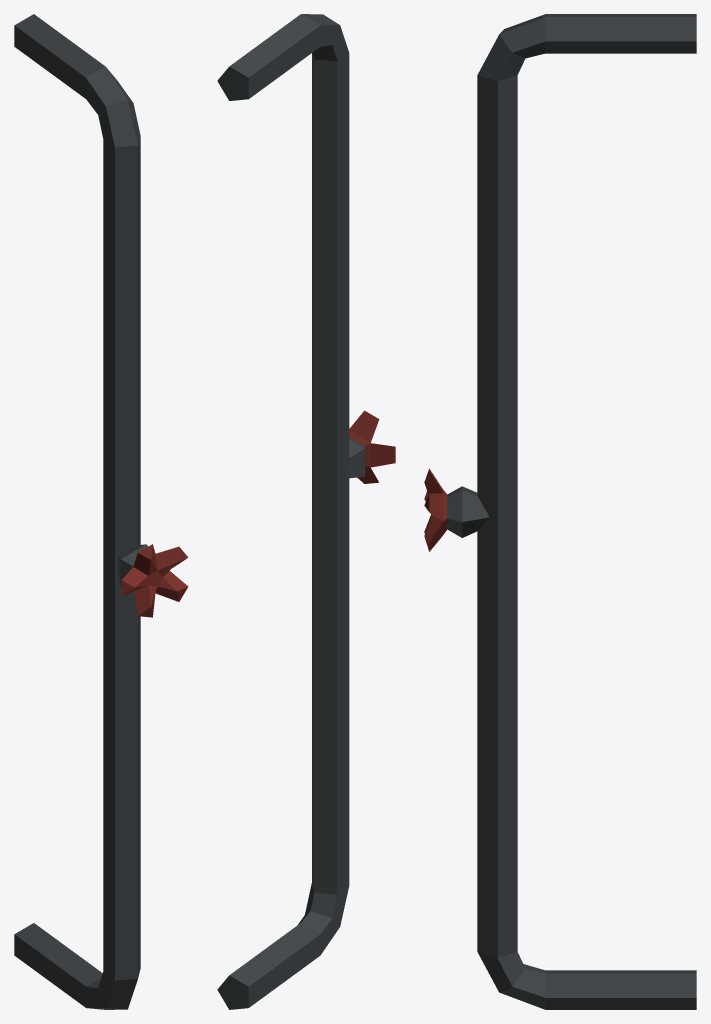
The model's file is SM_Prop_Wall_Pipe_01.obj.
The picture shows the model from 3 angles, left to right: view 1: azimuth 30°, elevation 25°; view 2: azimuth 150°, elevation 25°; view 3: azimuth 270°, elevation 25°; orthographic projection. The views are drawn at different scales.
Visible parts, largest first — view 1: SM_Prop_Wall_Pipe_01_0; view 2: SM_Prop_Wall_Pipe_01_0; view 3: SM_Prop_Wall_Pipe_01_0.
Part boxes in pixels (bbox=[...]): SM_Prop_Wall_Pipe_01_0: bbox=[14, 14, 188, 1009]; SM_Prop_Wall_Pipe_01_0: bbox=[217, 14, 395, 1009]; SM_Prop_Wall_Pipe_01_0: bbox=[424, 14, 696, 1009].
Size of the model in its own units: 0.1083 by 1.46 by 0.3627.
Materials: 1 (1 with a texture image).
